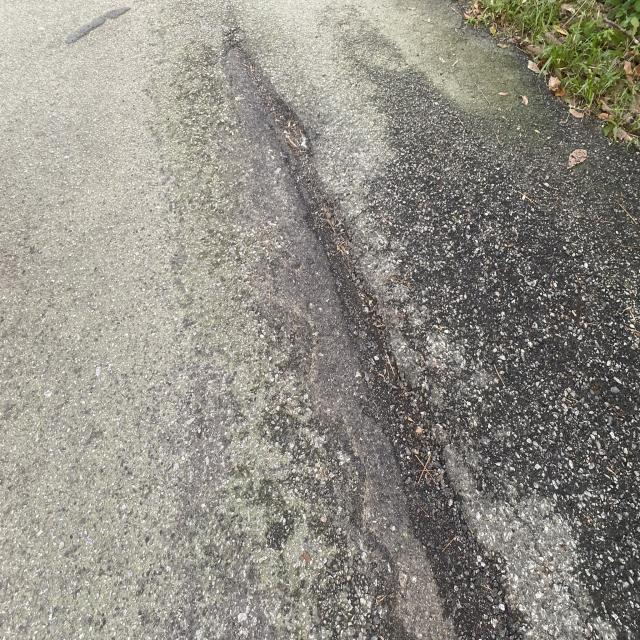Pothole: (177, 0, 498, 640)
